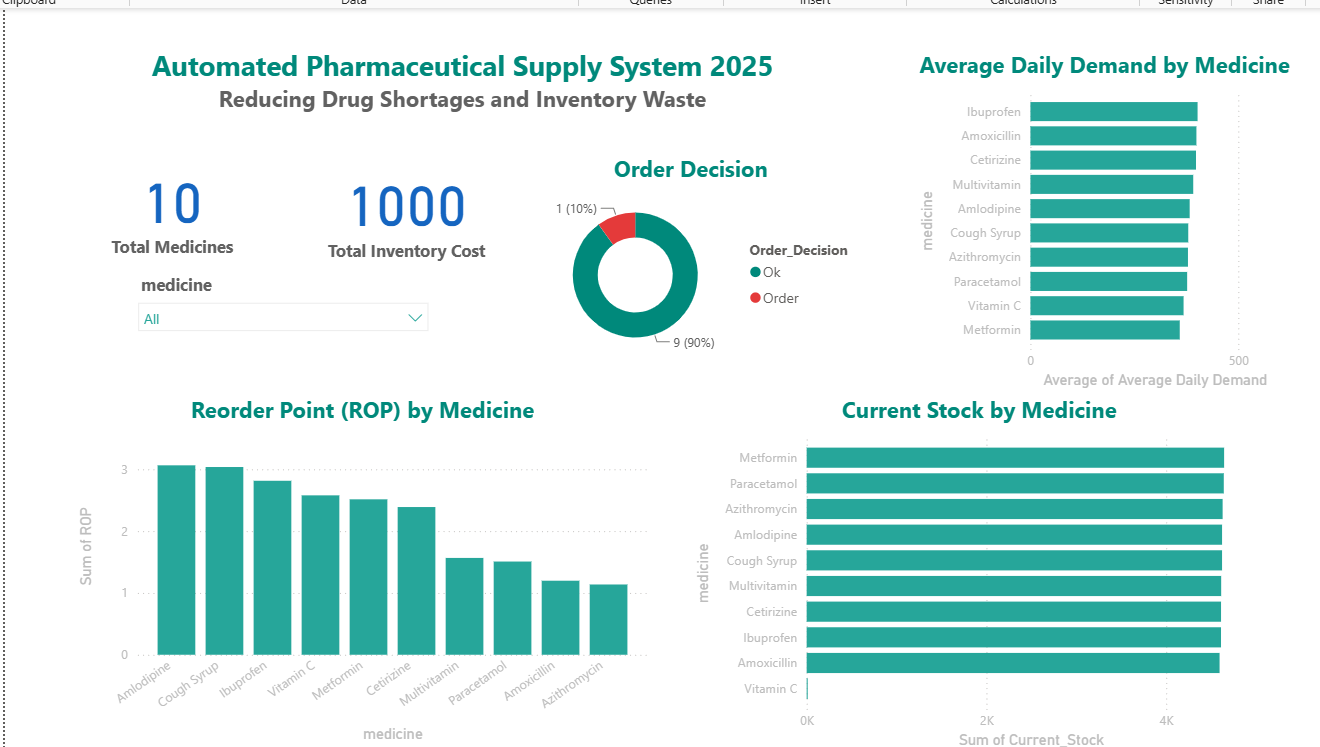

Layout of this report page (visuals, bound fields, positions):
{"tool":"powerbi","page":{"name":"Page ١","canvas":[1280,720],"ordinal":0},"visuals":[{"type":"textbox","box":[65.7,14.3,752.9,107.1],"z":6},{"type":"slicer","fields":{"Values":["Inventory_Model.medicine"]},"box":[118.6,251.4,300,95.7],"z":7},{"type":"barChart","title":"Average Daily Demand by Medicine","fields":{"Category":["Inventory_Model.medicine"],"Y":["Avg(Inventory_Model.Average Daily Demand)"]},"box":[877.1,40,368.6,332.9],"z":9},{"type":"barChart","title":"Current Stock by Medicine","fields":{"Category":["Inventory_Model.medicine"],"Y":["Sum(Inventory_Model.Current_Stock)"]},"box":[661.4,372.9,558.6,347.1],"z":10},{"type":"columnChart","title":"Reorder Point (ROP) by Medicine","fields":{"Category":["Inventory_Model.medicine"],"Y":["Sum(Inventory_Model.ROP)"]},"box":[65.7,372.9,560,341.4],"z":11},{"type":"card","fields":{"Values":["CountNonNull(Inventory_Model.Total_Cost)"]},"box":[65.7,140,192.9,104.3],"z":12},{"type":"card","fields":{"Values":["Sum(Inventory_Model.Total_System_Cost)"]},"box":[268.6,140,237.1,111.4],"z":13},{"type":"donutChart","title":"Order Decision","fields":{"Category":["Inventory_Model.Order_Decision"],"Y":["CountNonNull(Inventory_Model.Order_Decision)"]},"box":[492.9,140,337.1,207.1],"z":14}]}

Visuals, with their boxes on the page's 1280x720 design canvas (x1, y1, x2, y2). These are canvas units, not pixel positions in the 1320x747 screenshot, which may show the page scaled, cropped or inside an application window:
textbox: bbox=(66, 14, 819, 121)
slicer - Inventory_Model.medicine: bbox=(119, 251, 419, 347)
"Average Daily Demand by Medicine" barChart: bbox=(877, 40, 1246, 373)
"Current Stock by Medicine" barChart: bbox=(661, 373, 1220, 720)
"Reorder Point (ROP) by Medicine" columnChart: bbox=(66, 373, 626, 714)
card - CountNonNull(Inventory_Model.Total_Cost): bbox=(66, 140, 259, 244)
card - Sum(Inventory_Model.Total_System_Cost): bbox=(269, 140, 506, 251)
"Order Decision" donutChart: bbox=(493, 140, 830, 347)
